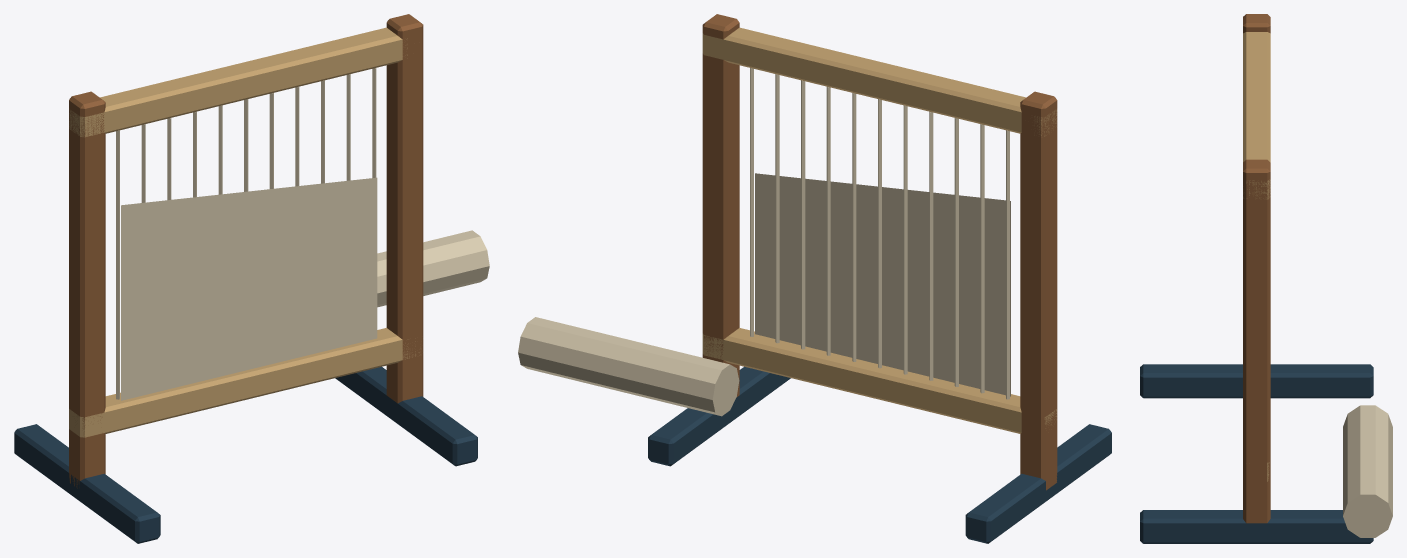
Rendered from weavery.glb.
3 views of the same model, side by side, from view 1: azimuth 30°, elevation 25°; view 2: azimuth 150°, elevation 25°; view 3: azimuth 270°, elevation 25° (orthographic). The views are drawn at different scales.
Visible parts, largest first — view 1: upright; view 2: upright; view 3: upright.
Part boxes in pixels (x1,y1,x2,y2): upright: [14, 14, 489, 543]; upright: [518, 14, 1111, 543]; upright: [1140, 14, 1392, 543].
Bounding box in the file's own units: 1.8 × 1.49 × 0.91.
